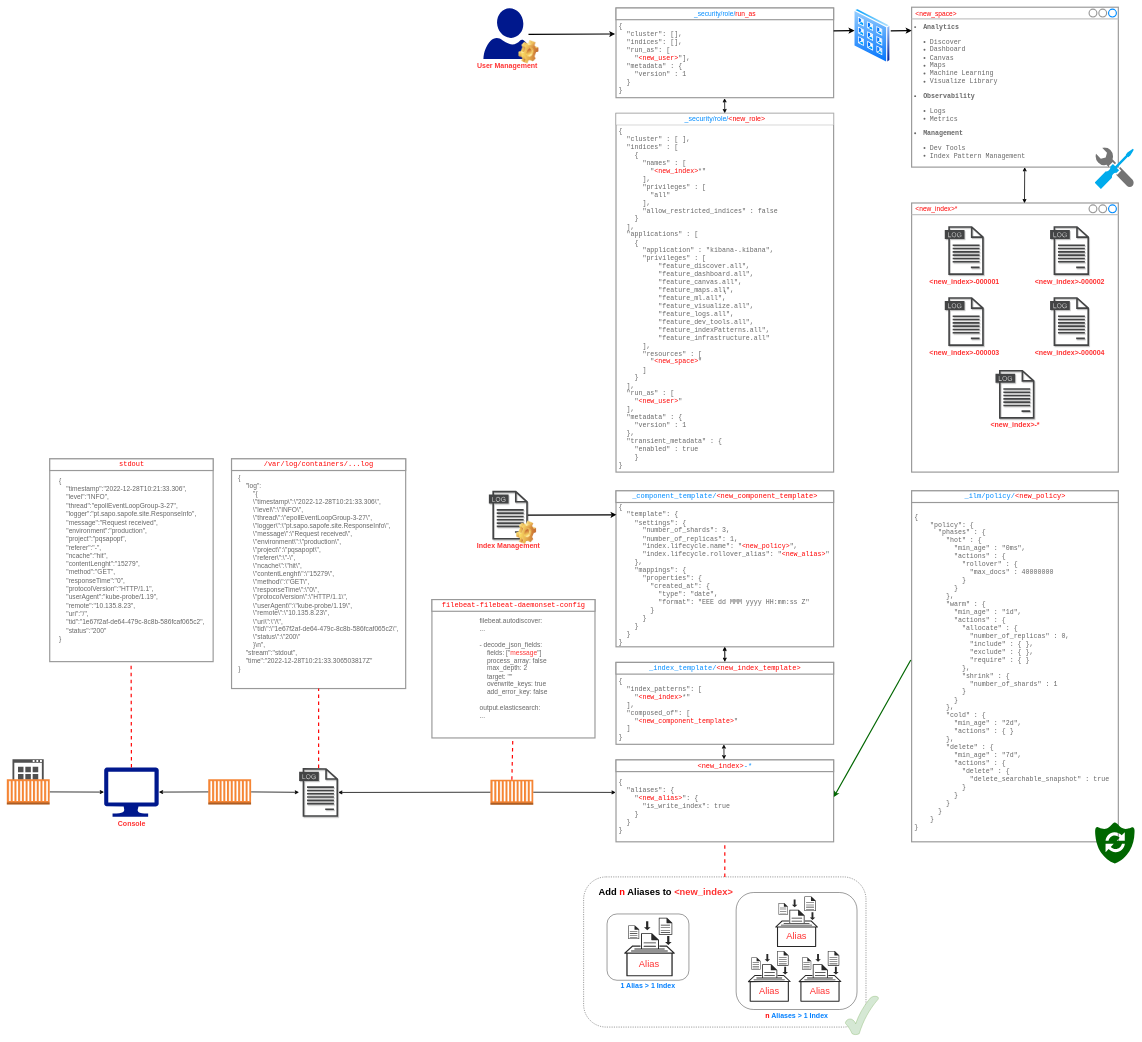
Some shapes in this 1142 by 1042 pixel diagram are drawn without their labels. The centre of each missing label's shape, as x and y in pixels:
Access: the point at 872,35
Application: the point at 28,791
Container Daemon: the point at 229,791
Filebeat Container: the point at 511,792
Log: the point at 318,792
